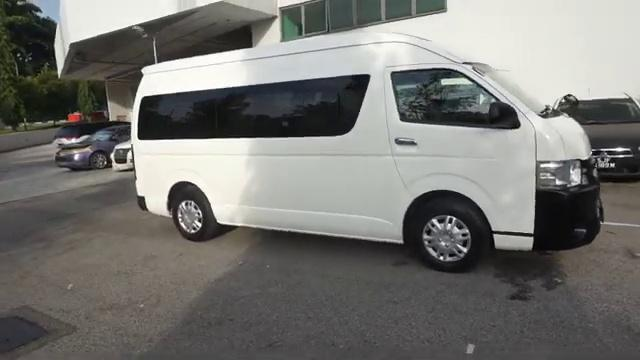Van: (128, 41, 607, 272)
